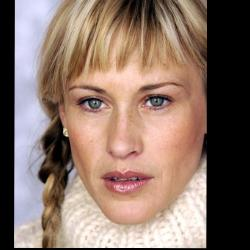face: (25, 1, 208, 228)
